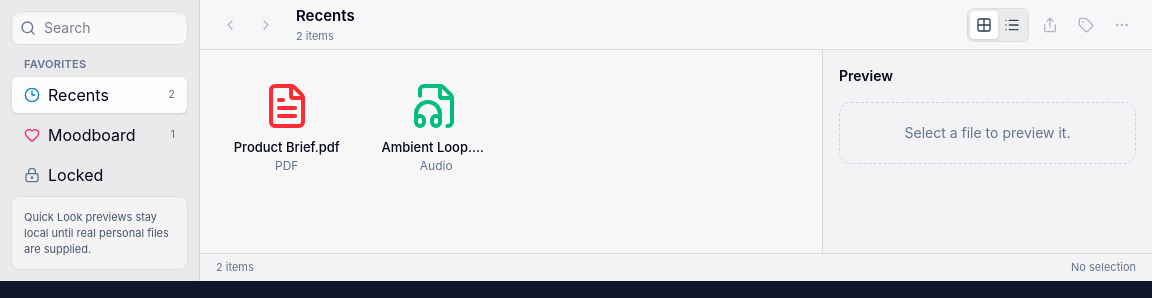
FinderApp › supports Finder-style back and forward folder navigation
Click the button "Moodboard 1" at x=100, y=134, box [12, 116, 187, 152]
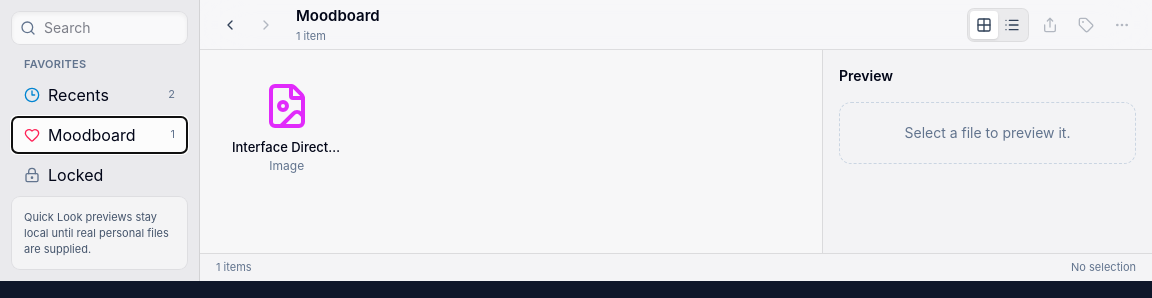
Expected: the heading "Moodboard" is shown, [296, 5, 380, 28]
Click the button named "Back" at x=230, y=24, box [216, 10, 244, 38]
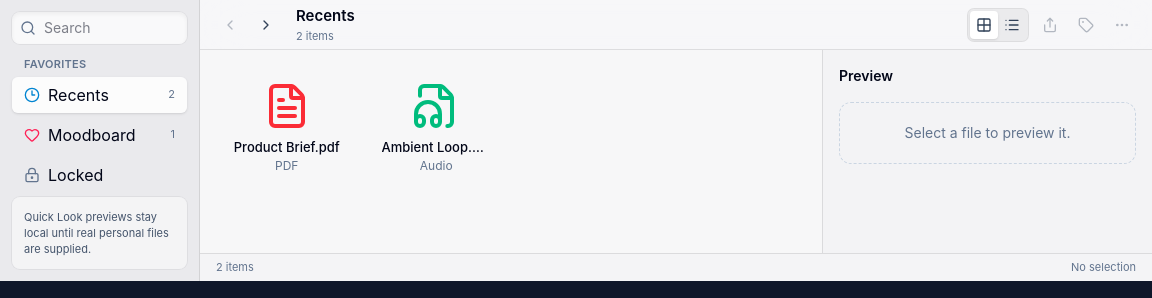
Expected: the heading "Recents" is shown, [296, 5, 355, 28]
Click the button named "Forward" at x=266, y=24, box [252, 10, 280, 38]
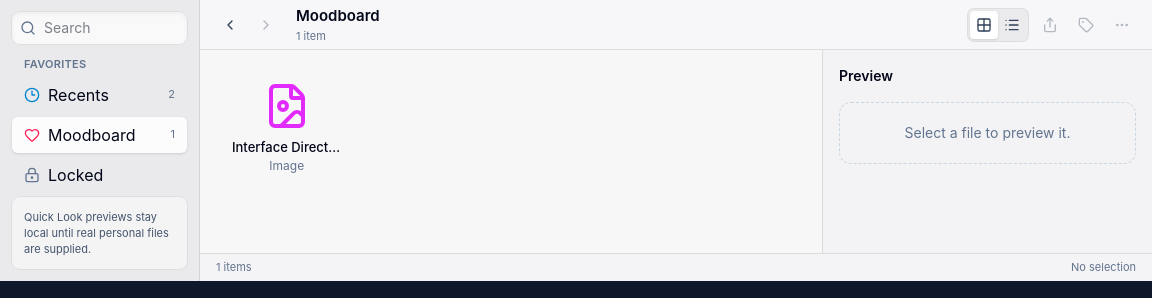
Expected: the heading "Moodboard" is shown, [296, 5, 380, 28]
